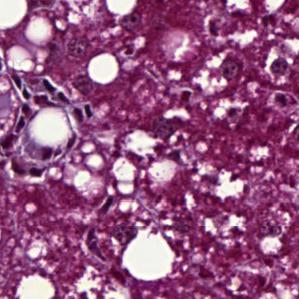inflammation: (8, 73, 75, 108), (6, 153, 49, 190), (261, 52, 292, 86)
